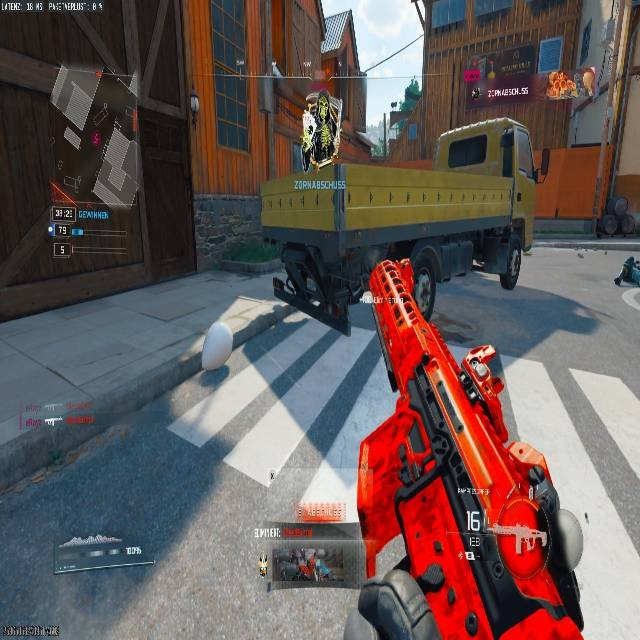player: (594, 192, 639, 293), (299, 89, 339, 170)
